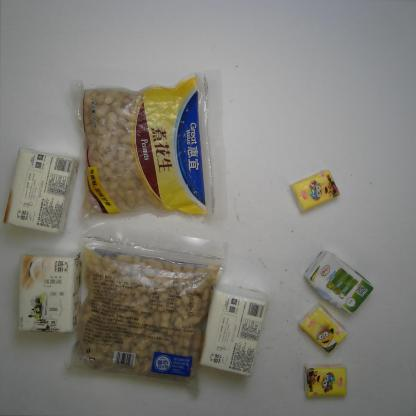Dried Food: (70, 233, 228, 400), (69, 68, 228, 230)
Milk: (304, 250, 373, 314)
Tissue: (199, 283, 268, 379), (5, 146, 78, 235), (17, 253, 81, 335), (300, 307, 349, 351), (290, 170, 338, 212), (303, 365, 350, 399)
